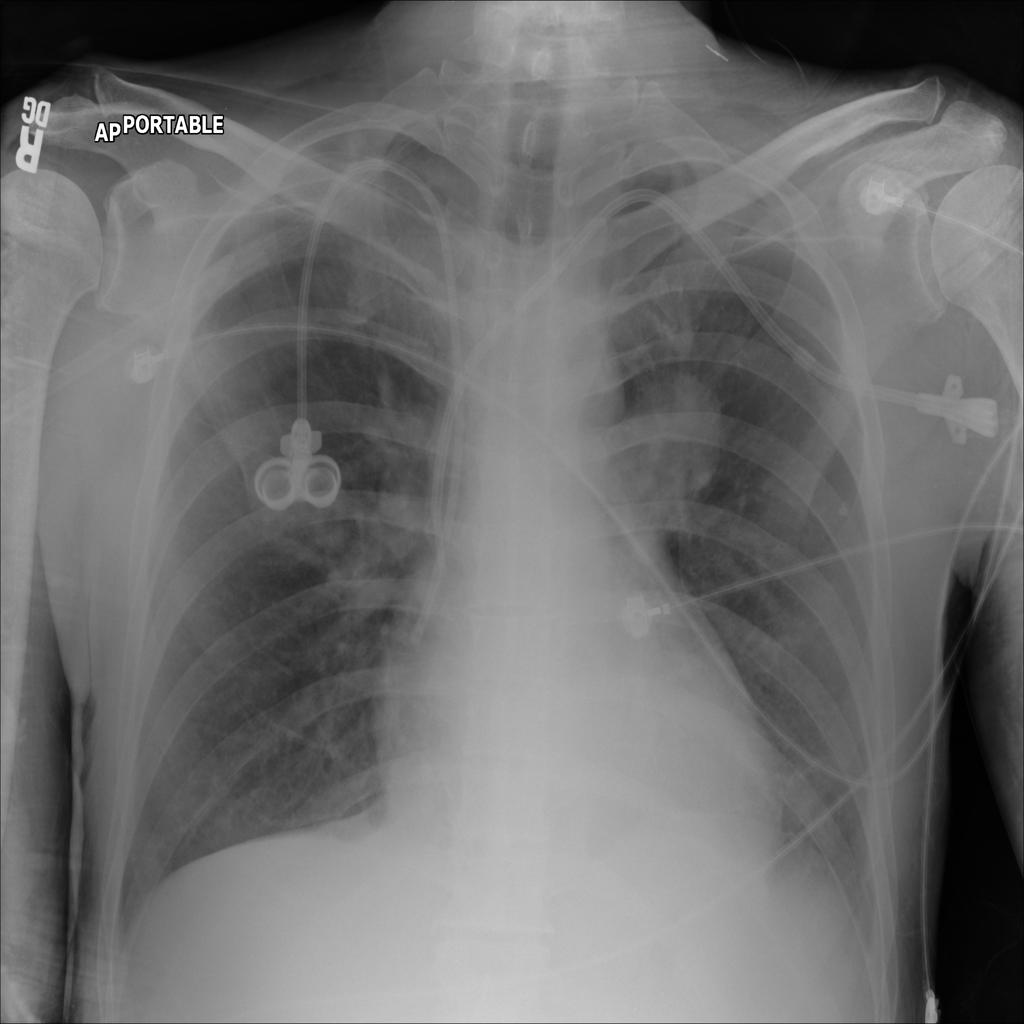nodule: (604, 342, 742, 522)
